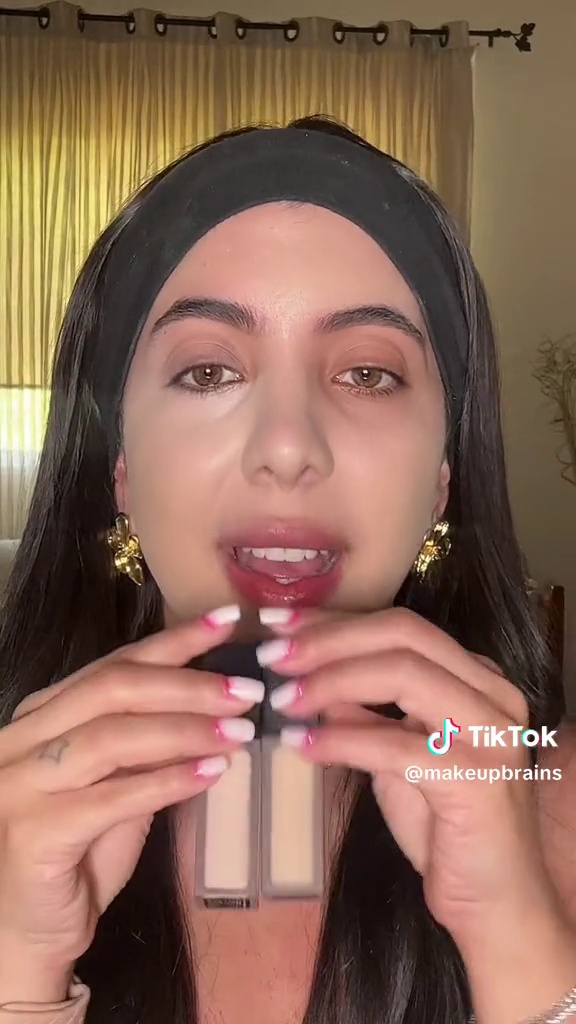train' :'yolo_data/train/images',: (180, 619, 336, 921)
